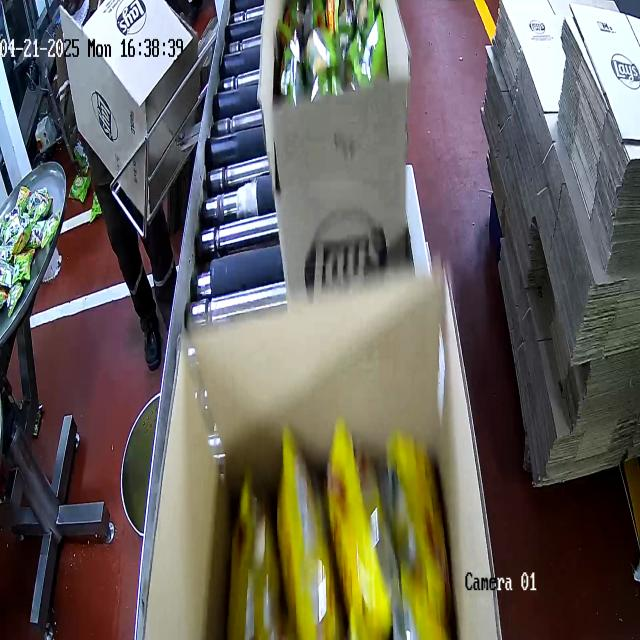SALTED: (219, 424, 458, 640)
YOGURT_HERB: (289, 7, 381, 85)
